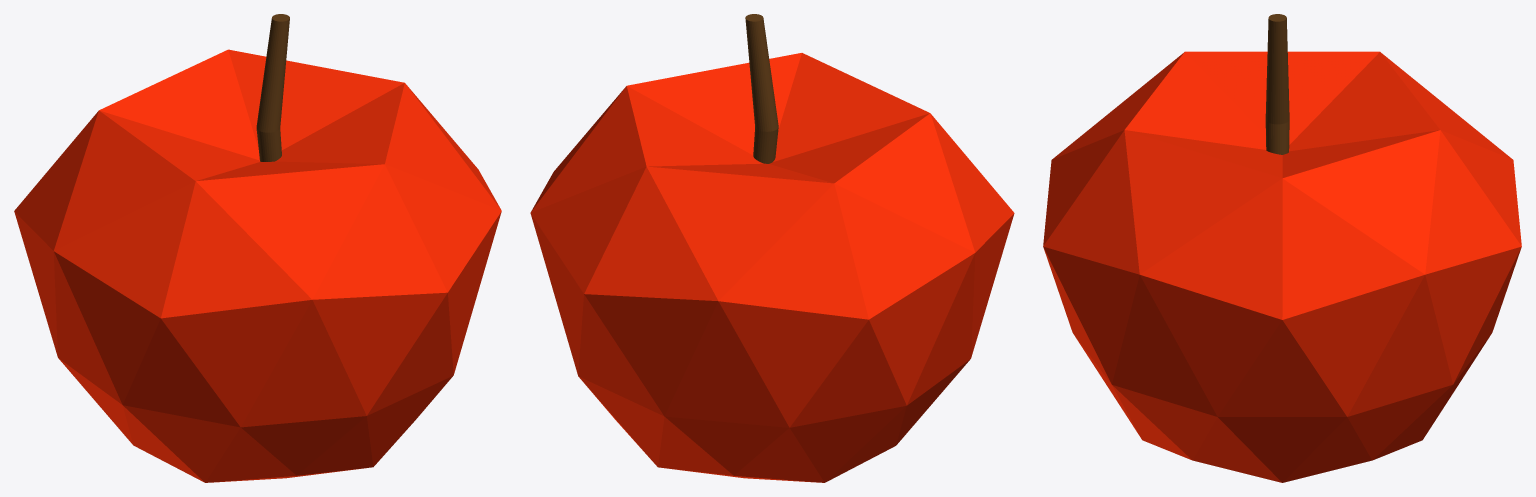
File: fruit.fbx
3 renders of one model, left to right at view 1: azimuth 30°, elevation 25°; view 2: azimuth 150°, elevation 25°; view 3: azimuth 270°, elevation 25°, orthographic.
Visible parts, largest first — view 1: Icosphere, Cylinder; view 2: Icosphere, Cylinder; view 3: Icosphere, Cylinder.
Part boxes in pixels (<box>): Icosphere: <box>14,49,501,482</box>; Cylinder: <box>256,14,289,161</box>; Icosphere: <box>530,53,1014,482</box>; Cylinder: <box>745,14,778,163</box>; Icosphere: <box>1043,51,1521,482</box>; Cylinder: <box>1265,14,1289,154</box>.
Size of the model in its own units: 190 by 180 by 184.
